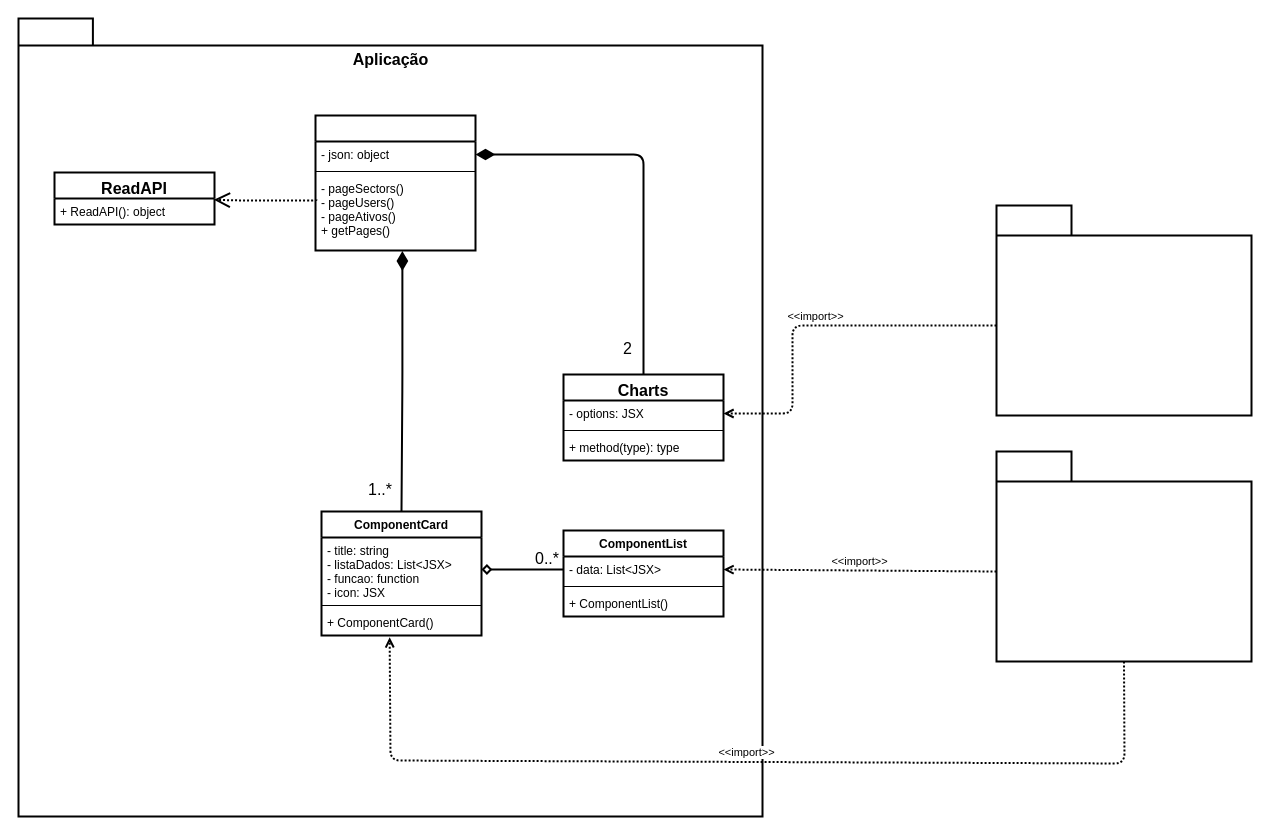
The diagram is 1269 pixels wide and 834 high, and some of its shapes have lost their labels. Each missing label, with the box of its shape:
Ant Design: (995, 450, 1252, 662)
GeraPages: (314, 114, 476, 251)
highcharts: (995, 204, 1252, 416)
